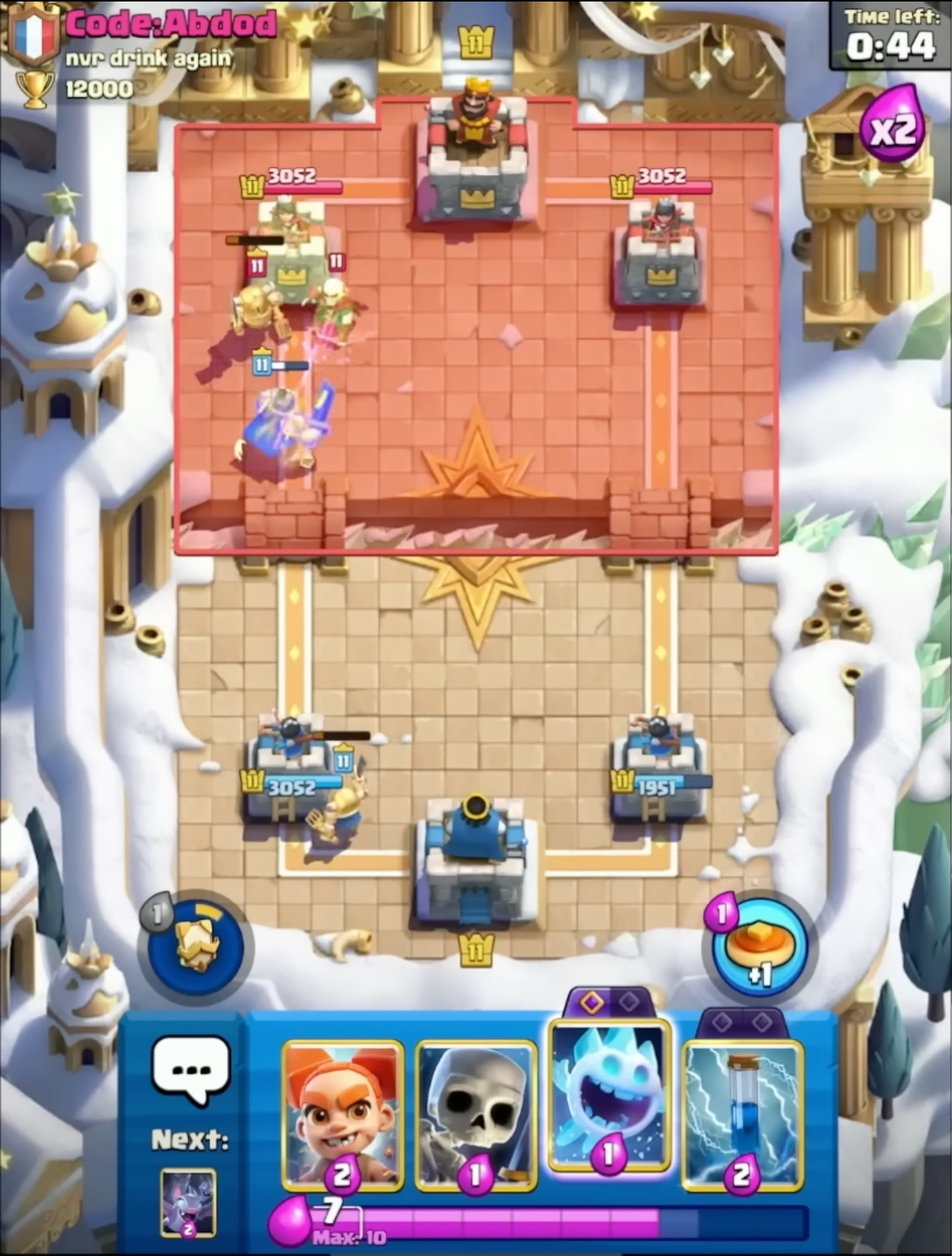hero-mini-pekka: (220, 232, 300, 355)
magic-archer: (298, 249, 375, 362)
